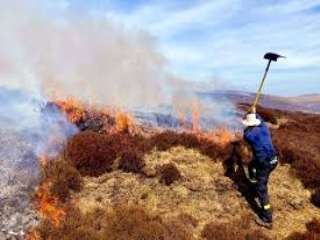fire: (58, 94, 139, 139), (173, 101, 233, 148)
